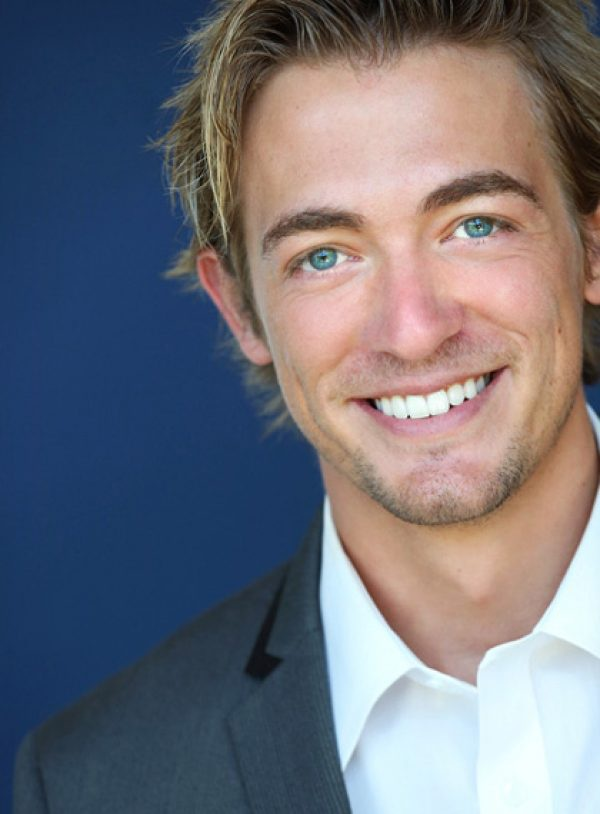bad: (204, 119, 589, 504)
